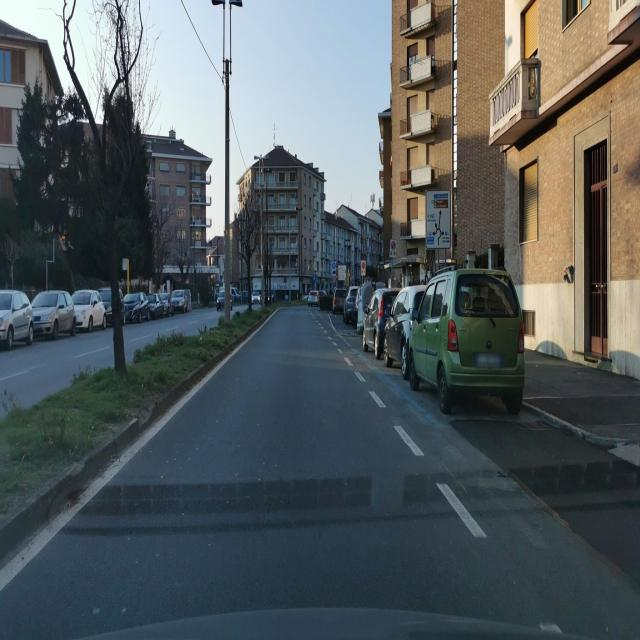car: (408, 265, 526, 416), (383, 282, 427, 378), (362, 286, 401, 358), (30, 288, 76, 340), (0, 287, 34, 351), (354, 279, 386, 334), (72, 288, 107, 332), (98, 287, 124, 326), (122, 292, 150, 323), (344, 284, 359, 326), (145, 293, 165, 319), (216, 285, 236, 310), (172, 289, 190, 313), (332, 287, 347, 314), (160, 292, 174, 316), (308, 290, 320, 307), (251, 289, 262, 304)
